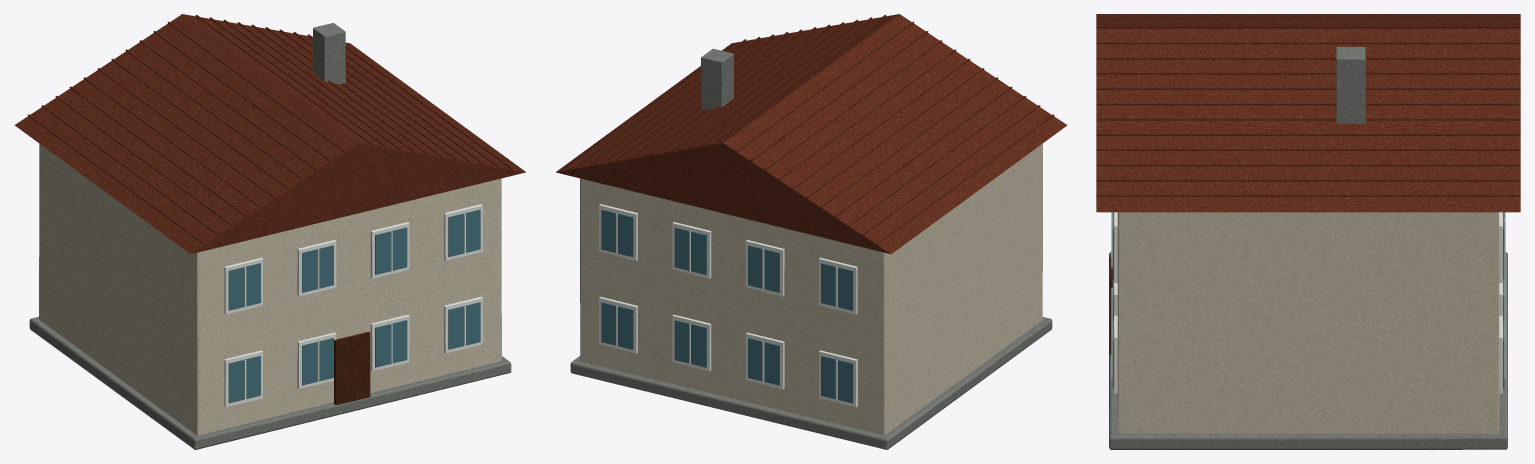
Rendered from House_Stucco_LOD1.glb.
The picture shows the model from 3 angles, left to right: view 1: azimuth 30°, elevation 25°; view 2: azimuth 150°, elevation 25°; view 3: azimuth 270°, elevation 25°; orthographic projection. The views are drawn at different scales.
Parts seen in each view (by area): view 1: House_Stucco_export; view 2: House_Stucco_export; view 3: House_Stucco_export.
Part boxes in pixels (left/top/right/bottom): House_Stucco_export: left=14, top=14, right=525, bottom=449; House_Stucco_export: left=556, top=14, right=1067, bottom=449; House_Stucco_export: left=1096, top=14, right=1520, bottom=449.
Bounding box in the file's own units: 11 × 9.1 × 10.
6 materials, 4 textured.
